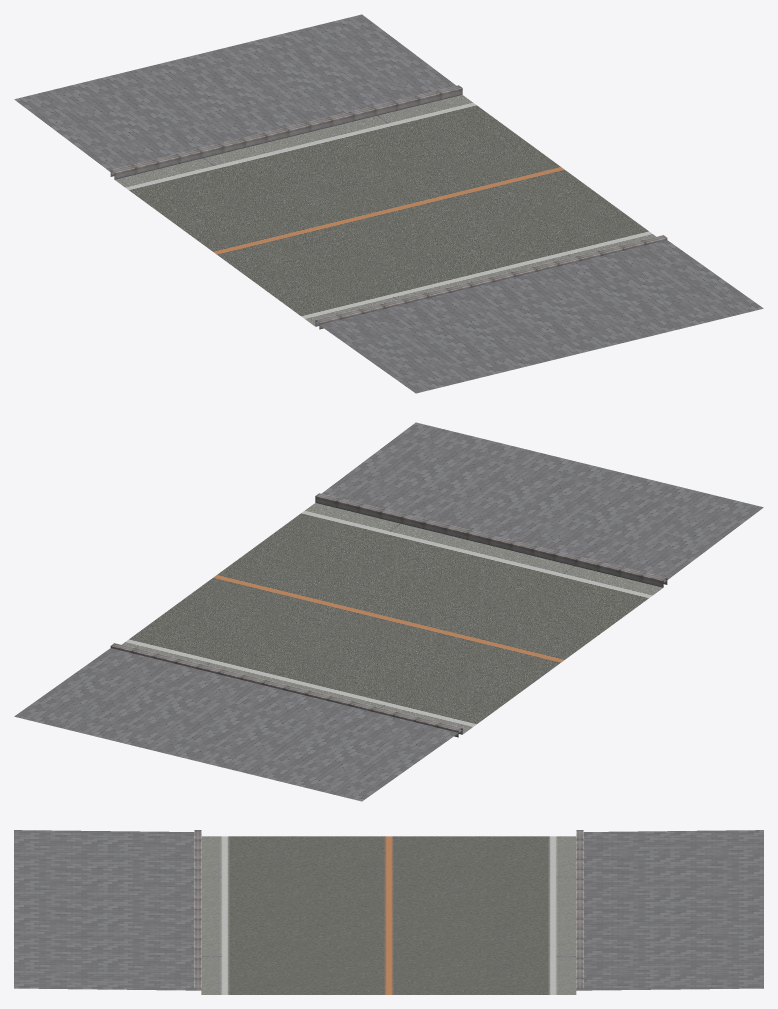
File: Street_8m.fbx
3 views of the same model, one above another, from view 1: azimuth 30°, elevation 25°; view 2: azimuth 150°, elevation 25°; view 3: azimuth 270°, elevation 25° (orthographic). The views are drawn at different scales.
Visible parts, largest first — view 1: 001_roadway_8x8m_orange, 500_sidewalk_w4m_8m, 500_sidewalk_w4m_8m.001, 100_curb_8m, 100_curb_8m.001; view 2: 001_roadway_8x8m_orange, 500_sidewalk_w4m_8m.001, 500_sidewalk_w4m_8m, 100_curb_8m.001, 100_curb_8m; view 3: 001_roadway_8x8m_orange, 500_sidewalk_w4m_8m.001, 500_sidewalk_w4m_8m, 100_curb_8m.001, 100_curb_8m.
Boxes of the visible parts, x1,y1,x2,y2 form: 001_roadway_8x8m_orange: (115,95,655,326); 500_sidewalk_w4m_8m: (14,14,456,174); 500_sidewalk_w4m_8m.001: (316,240,763,393); 100_curb_8m: (110,85,462,179); 100_curb_8m.001: (315,235,667,329); 001_roadway_8x8m_orange: (122,503,662,734); 500_sidewalk_w4m_8m.001: (321,422,763,582); 500_sidewalk_w4m_8m: (14,648,461,801); 100_curb_8m.001: (315,493,667,587); 100_curb_8m: (110,643,462,737); 001_roadway_8x8m_orange: (201,836,576,994); 500_sidewalk_w4m_8m.001: (14,830,201,990); 500_sidewalk_w4m_8m: (576,830,763,990); 100_curb_8m.001: (194,830,201,988); 100_curb_8m: (576,830,583,988).
Size of the model in its own units: 8 by 0.15 by 16.
